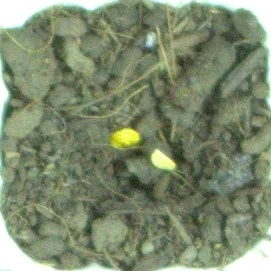chilli seed: (109, 127, 143, 150), (149, 147, 178, 172)
